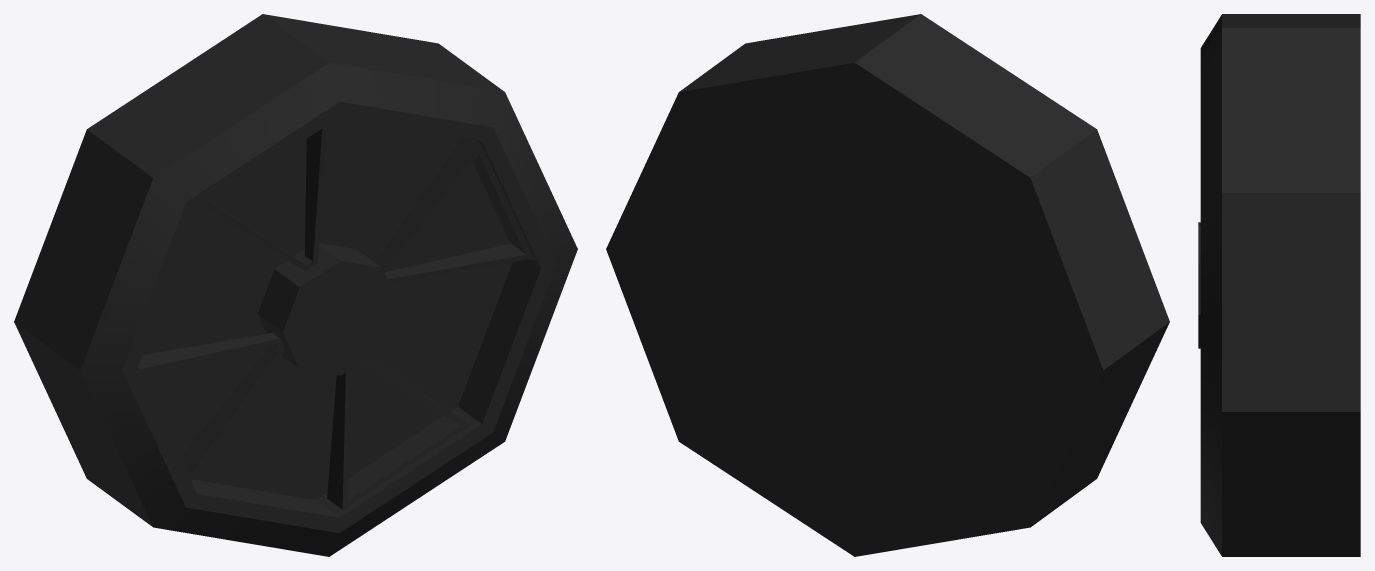
File: LamboWheel.obj
3 views of the same model, side by side, from view 1: azimuth 30°, elevation 25°; view 2: azimuth 150°, elevation 25°; view 3: azimuth 270°, elevation 25° (orthographic). The views are drawn at different scales.
Parts seen in each view (by area): view 1: Car_ModelMain; view 2: Car_ModelMain; view 3: Car_ModelMain.
Boxes of the visible parts, bbox=[...] form: Car_ModelMain: bbox=[14, 14, 577, 556]; Car_ModelMain: bbox=[606, 14, 1169, 556]; Car_ModelMain: bbox=[1198, 14, 1360, 556].
Bounding box in the file's own units: 1.29 × 1.22 × 0.35.
